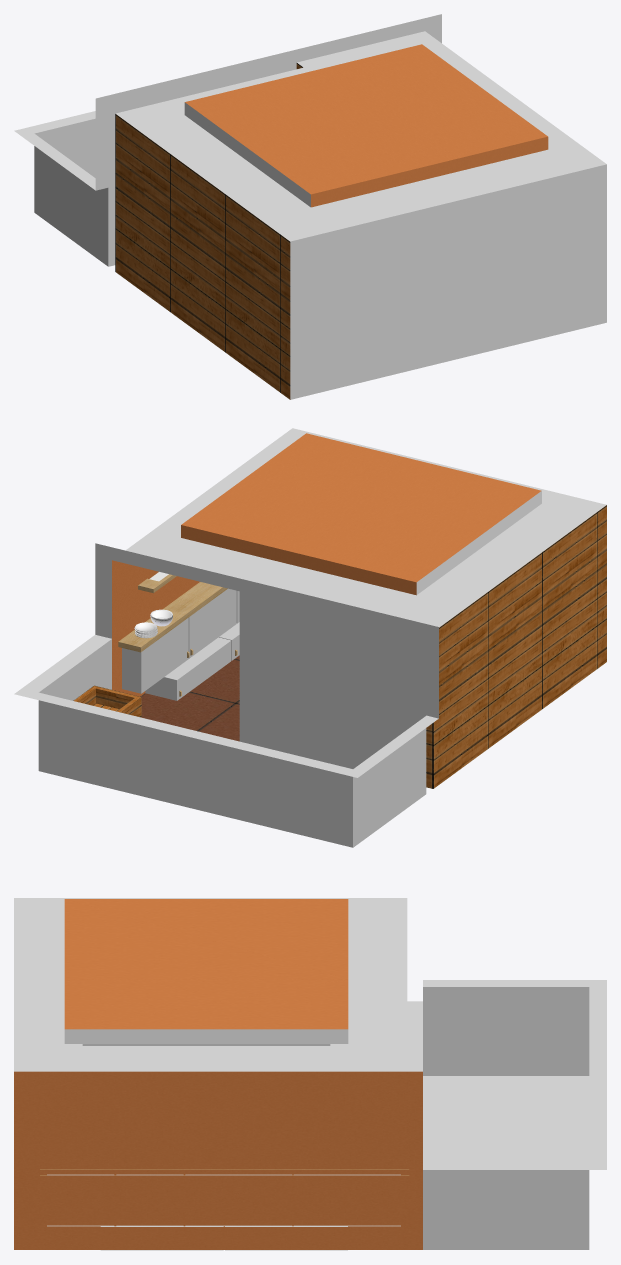
Rendered from LivingRoom.obj.
3 views of the same model, one above another, from view 1: azimuth 30°, elevation 25°; view 2: azimuth 150°, elevation 25°; view 3: azimuth 270°, elevation 25° (orthographic). The views are drawn at different scales.
Visible parts, largest first — view 1: Box001; view 2: Box001, Cabinet, Box002; view 3: Box001, Cabinet.
Part boxes in pixels (<box>): Box001: <box>14,14,606,399</box>; Box001: <box>14,428,606,847</box>; Cabinet: <box>118,582,239,700</box>; Box002: <box>73,685,141,717</box>; Box001: <box>14,898,606,1249</box>; Cabinet: <box>40,1169,408,1250</box>.
Bounding box in the file's own units: 687 × 338 × 905.
8 materials, 5 textured.
